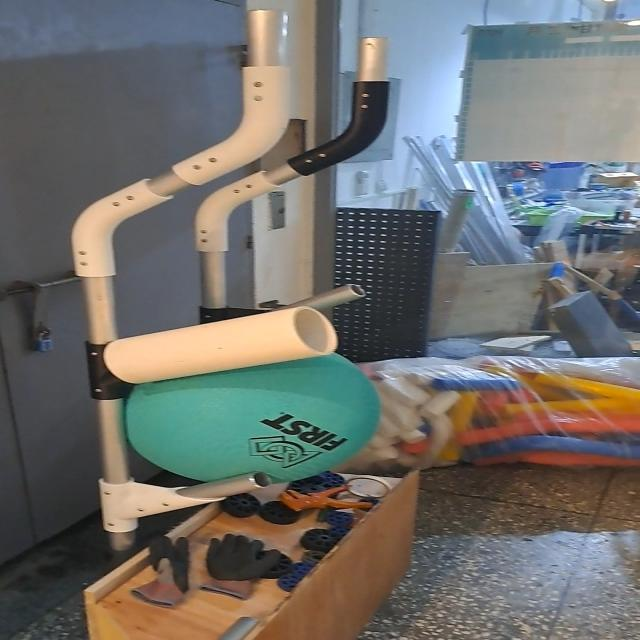ALGAE: (123, 346, 381, 485)
CORAL: (110, 305, 340, 385)
